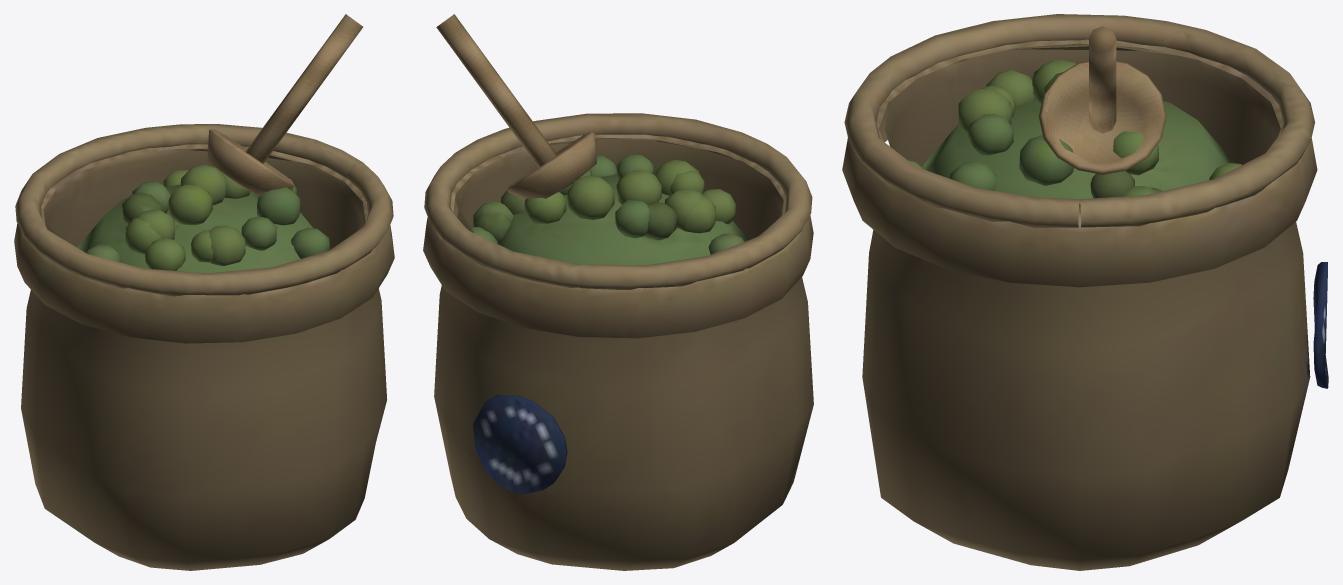
The model's file is pellet_sack_green.glb.
3 renders of one model, left to right at view 1: azimuth 30°, elevation 25°; view 2: azimuth 150°, elevation 25°; view 3: azimuth 270°, elevation 25°, orthographic. The views are drawn at different scales.
Parts seen in each view (by area): view 1: prop_pellet_sack_green_felt, prop_pellet_sack_green_wood; view 2: prop_pellet_sack_green_felt, prop_pellet_sack_green_wood; view 3: prop_pellet_sack_green_felt, prop_pellet_sack_green_wood.
Part boxes in pixels (left/top/right/bottom): prop_pellet_sack_green_felt: left=14, top=124, right=394, bottom=570; prop_pellet_sack_green_wood: left=207, top=14, right=362, bottom=196; prop_pellet_sack_green_felt: left=423, top=113, right=813, bottom=570; prop_pellet_sack_green_wood: left=436, top=14, right=596, bottom=200; prop_pellet_sack_green_felt: left=842, top=14, right=1328, bottom=570; prop_pellet_sack_green_wood: left=1038, top=26, right=1166, bottom=174.
Size of the model in its own units: 0.4186 by 0.5482 by 0.4259.
Materials: 2 (2 with a texture image).
